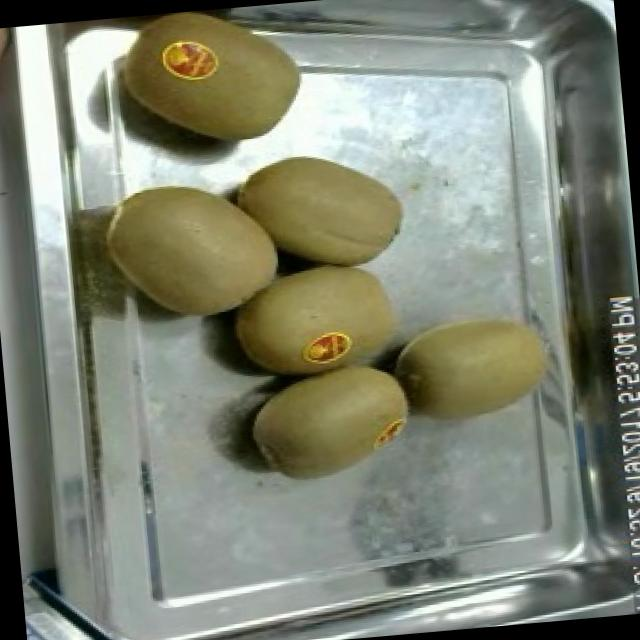Fruit: (94, 162, 298, 334), (137, 2, 320, 160), (218, 248, 420, 388), (224, 136, 412, 278), (238, 356, 426, 491), (379, 298, 565, 434), (0, 25, 26, 122)
